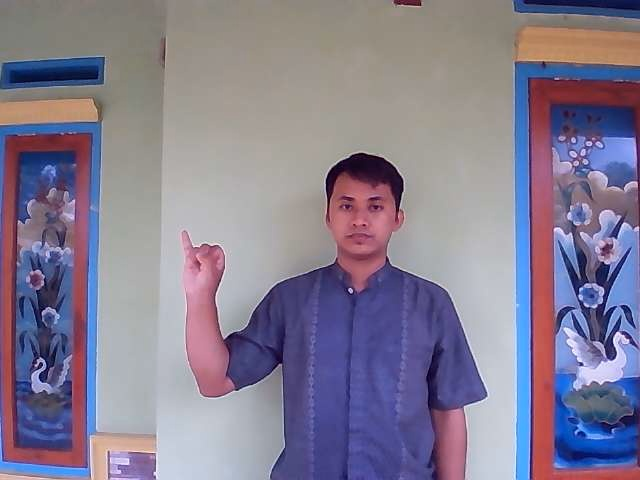I: (173, 226, 234, 307)
